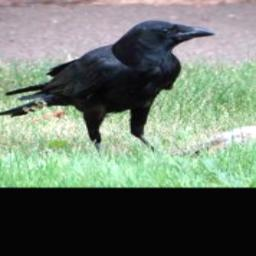Crow: (0, 19, 219, 155)
